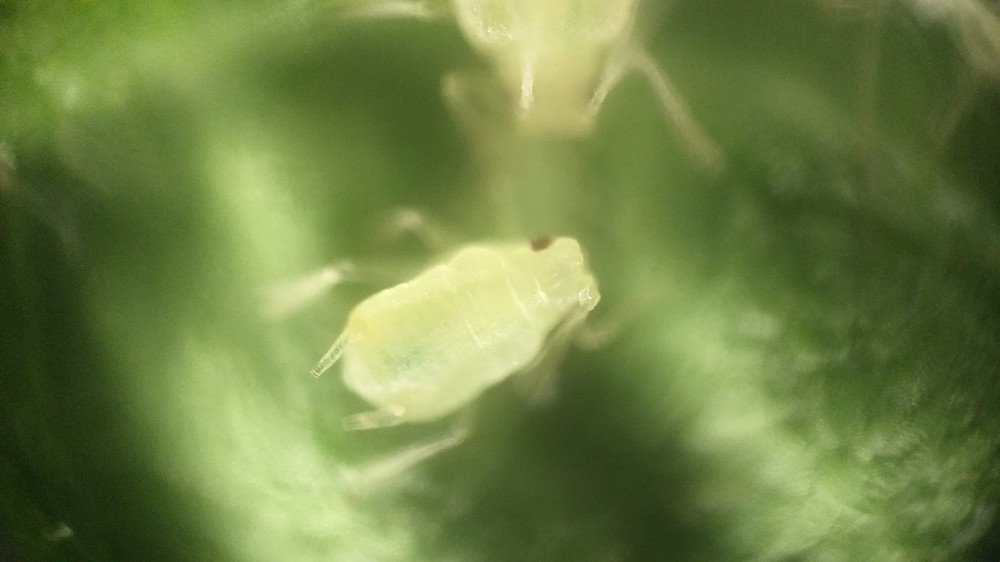Pulgon: (249, 186, 682, 472)
